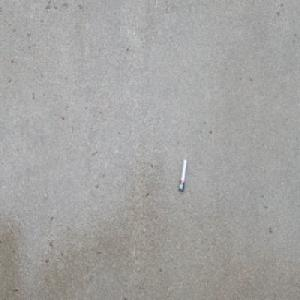Battery: (178, 157, 187, 192)
